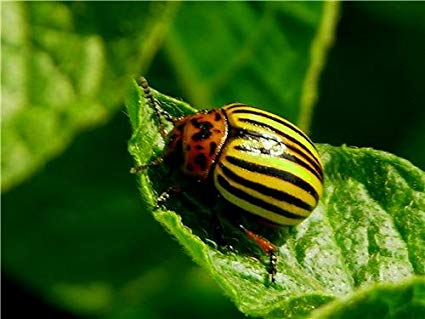hrosc: (162, 95, 323, 254)
